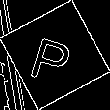P_N: (30, 26, 80, 84)
